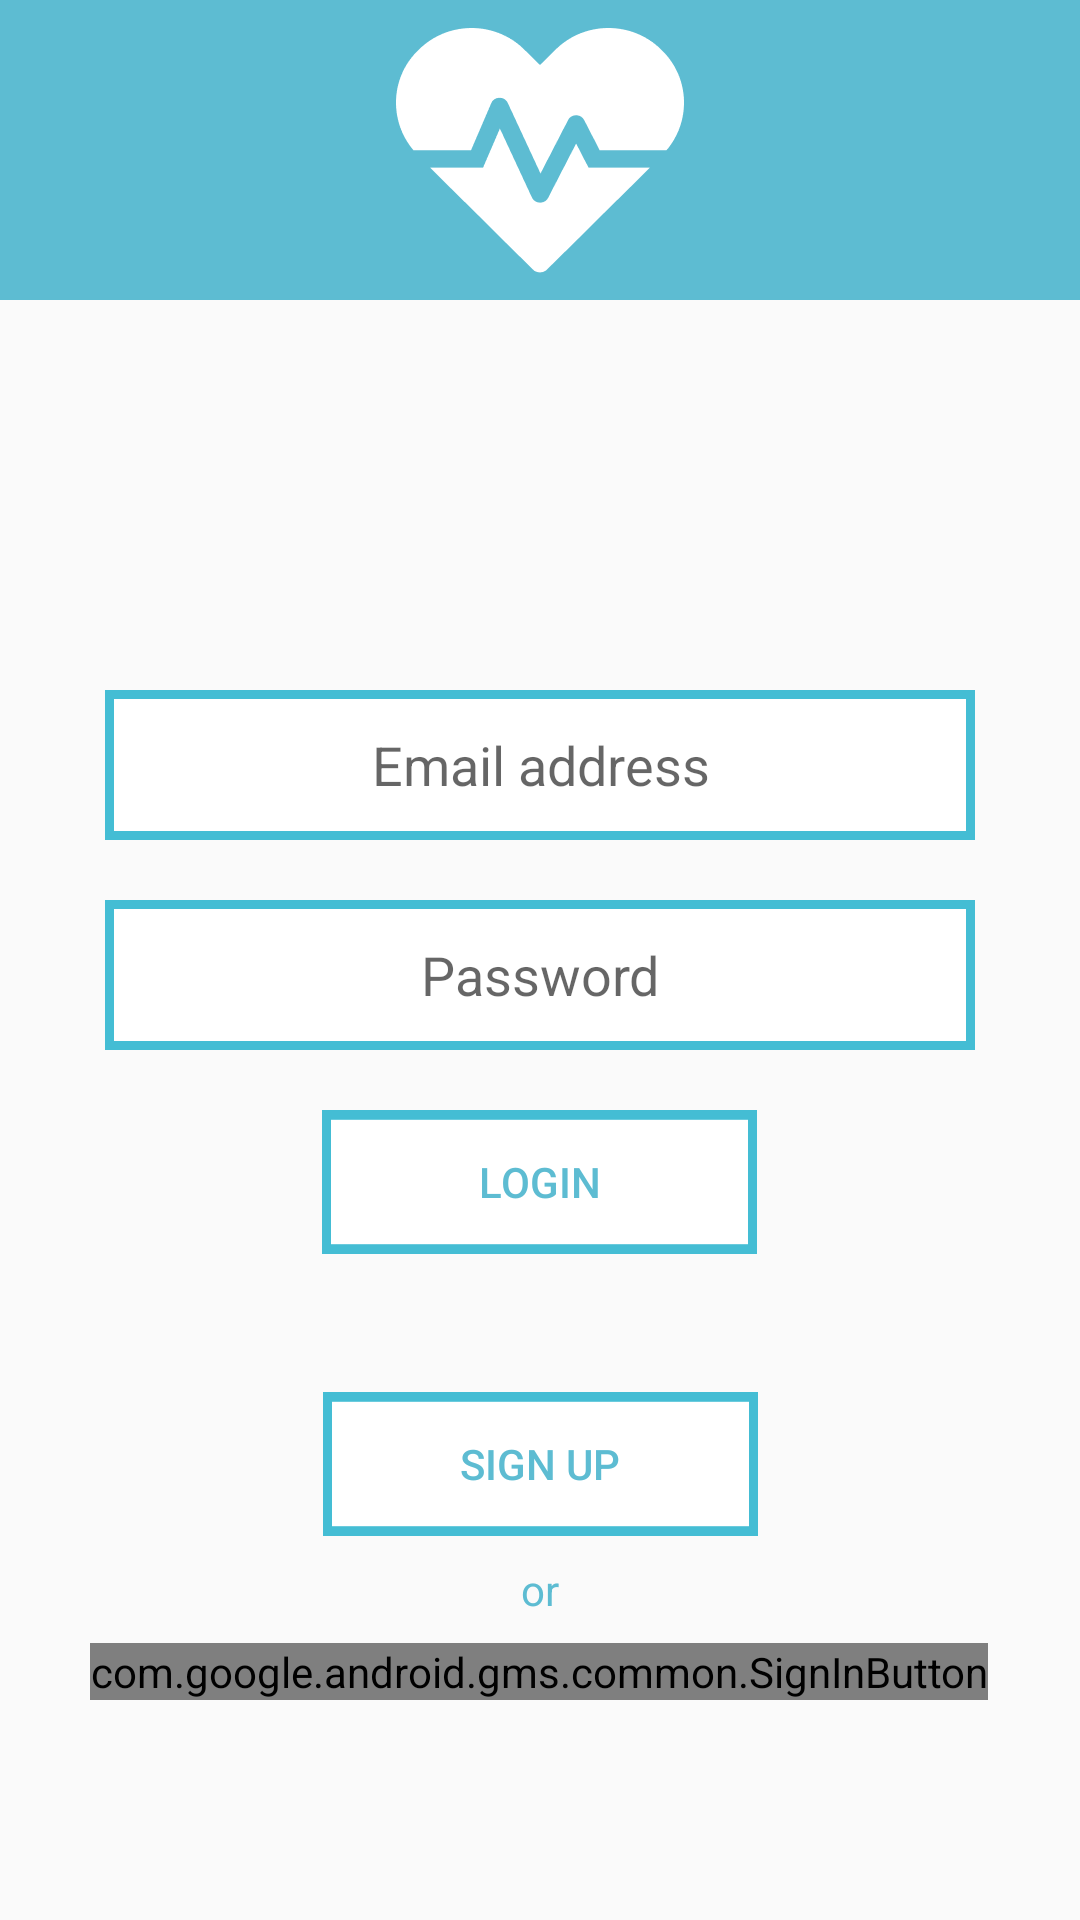

Named icons in this screenshot (1080x1920) and their centers, (x,y):
heart: (540,150)
